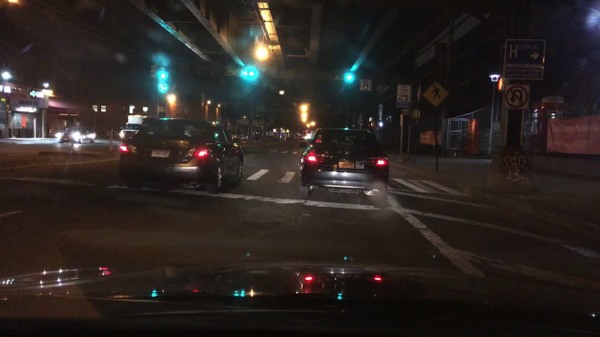car: (117, 118, 245, 195), (296, 127, 392, 207), (57, 125, 99, 145), (104, 126, 116, 137)
traffic light: (159, 67, 167, 91), (334, 73, 353, 81), (240, 71, 257, 79), (497, 79, 508, 91), (150, 64, 155, 77)
traffic sign: (504, 38, 545, 65), (501, 82, 532, 113), (421, 82, 449, 107), (503, 66, 543, 80), (395, 84, 412, 110), (359, 78, 373, 92), (402, 109, 411, 117)
truck: (118, 115, 146, 143)
